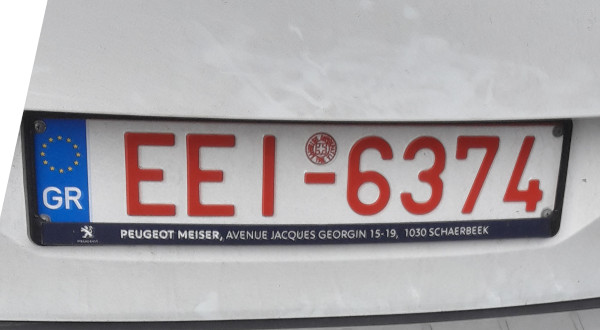license_plate: (30, 114, 566, 228)
